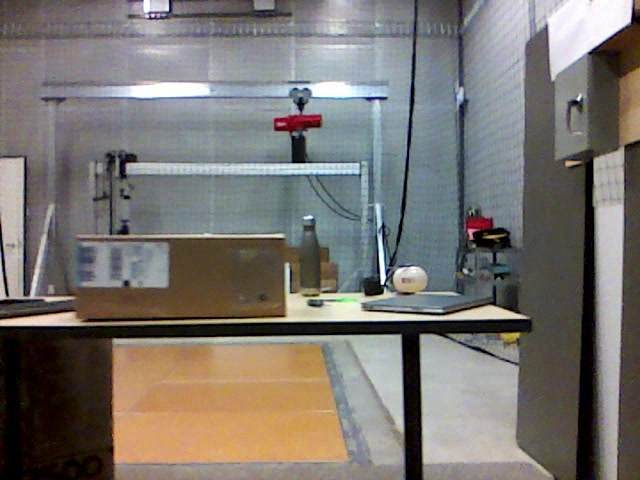box: (75, 235, 290, 319)
